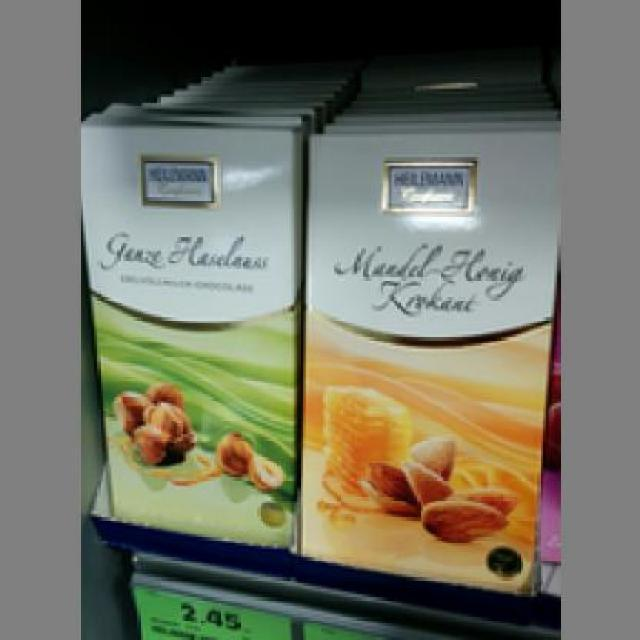Chocolate: (294, 122, 554, 588), (77, 111, 297, 540)
